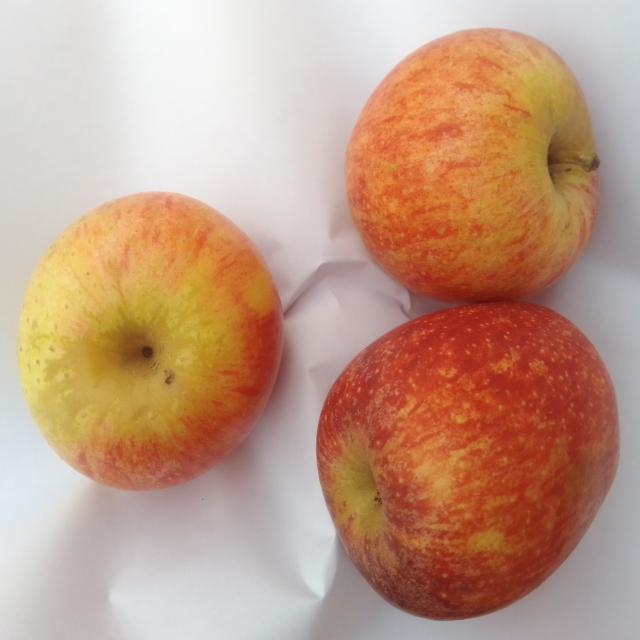Fresh Apple: (321, 310, 640, 620), (335, 32, 608, 305), (33, 196, 267, 486)
